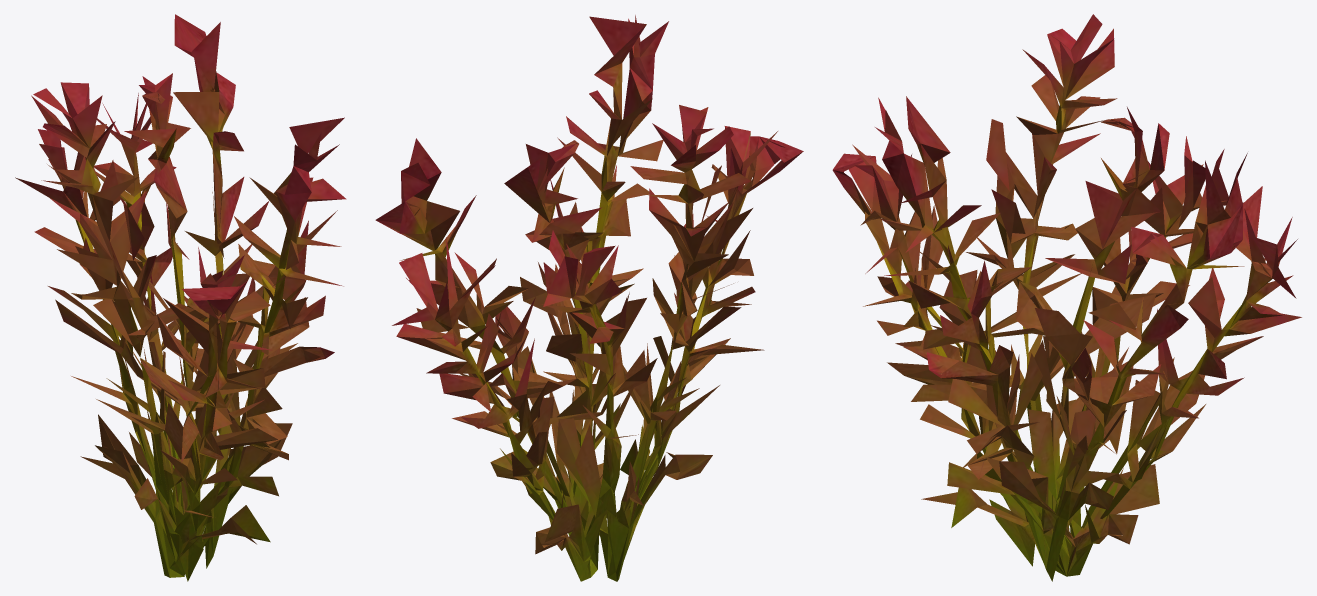
File: ludwigia-repens.glb
3 renders of one model, left to right at view 1: azimuth 30°, elevation 25°; view 2: azimuth 150°, elevation 25°; view 3: azimuth 270°, elevation 25°, orthographic.
Parts seen in each view (by area): view 1: tripo_node_aa59626f-df82-4ac4-af52-836e725c6372; view 2: tripo_node_aa59626f-df82-4ac4-af52-836e725c6372; view 3: tripo_node_aa59626f-df82-4ac4-af52-836e725c6372.
Part boxes in pixels (bbox=[...]): tripo_node_aa59626f-df82-4ac4-af52-836e725c6372: bbox=[15, 14, 346, 581]; tripo_node_aa59626f-df82-4ac4-af52-836e725c6372: bbox=[375, 15, 803, 581]; tripo_node_aa59626f-df82-4ac4-af52-836e725c6372: bbox=[832, 14, 1301, 581].
Bounding box in the file's own units: 0.5636 × 0.9325 × 0.8044.
1 material, 1 textured.
